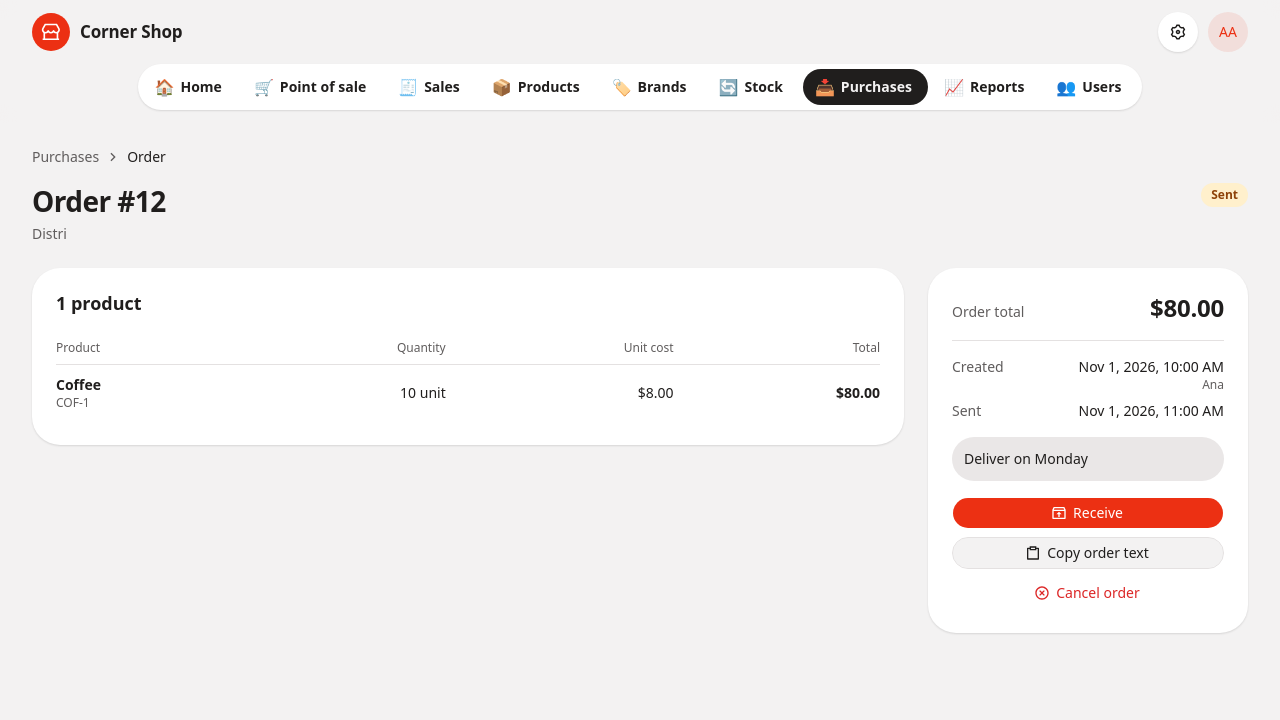
Test: Purchase order › receives what arrived, showing the cost it averages to
Expected: the heading "Order #12" is shown, [32,183,166,220]
Click the button "Receive" at (1088, 513), box [952,497,1224,529]
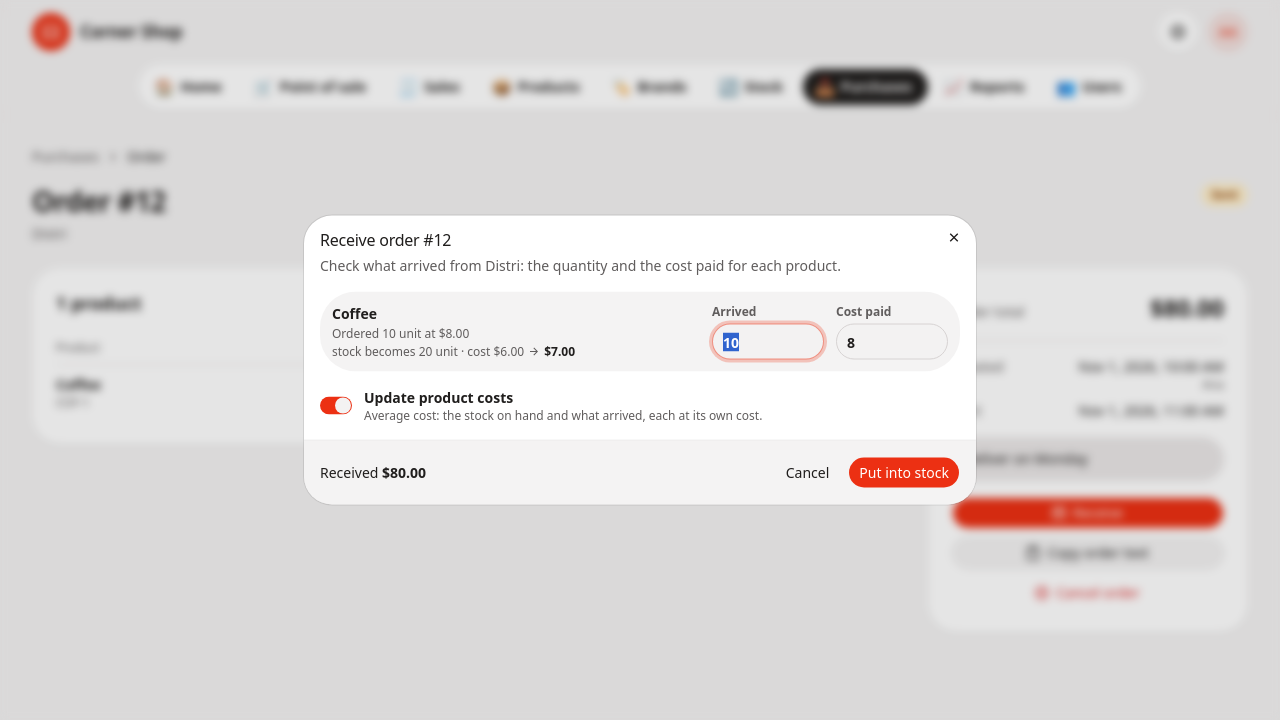
Replace the text in the field named "Arrived of Coffee" with "8" at (768, 342), box [712,324,824,360]
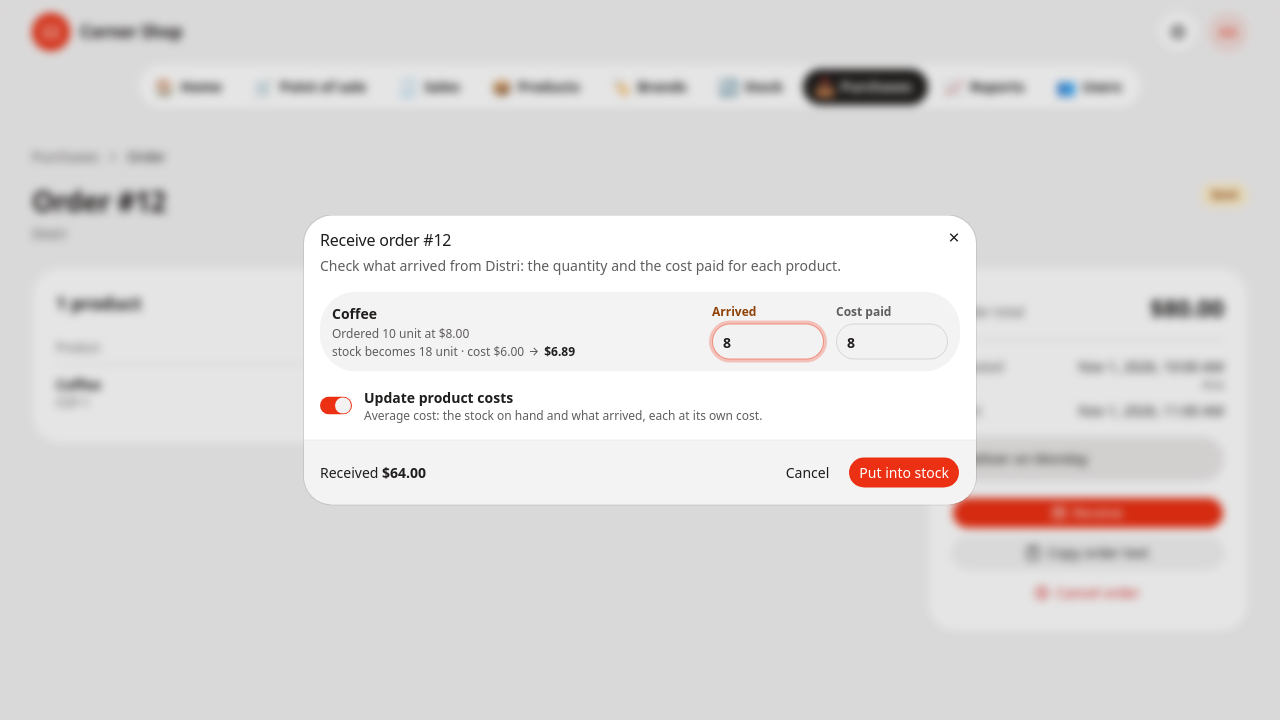
Replace the text in the field named "Cost paid for Coffee" with "9" at (892, 342), box [836,324,948,360]
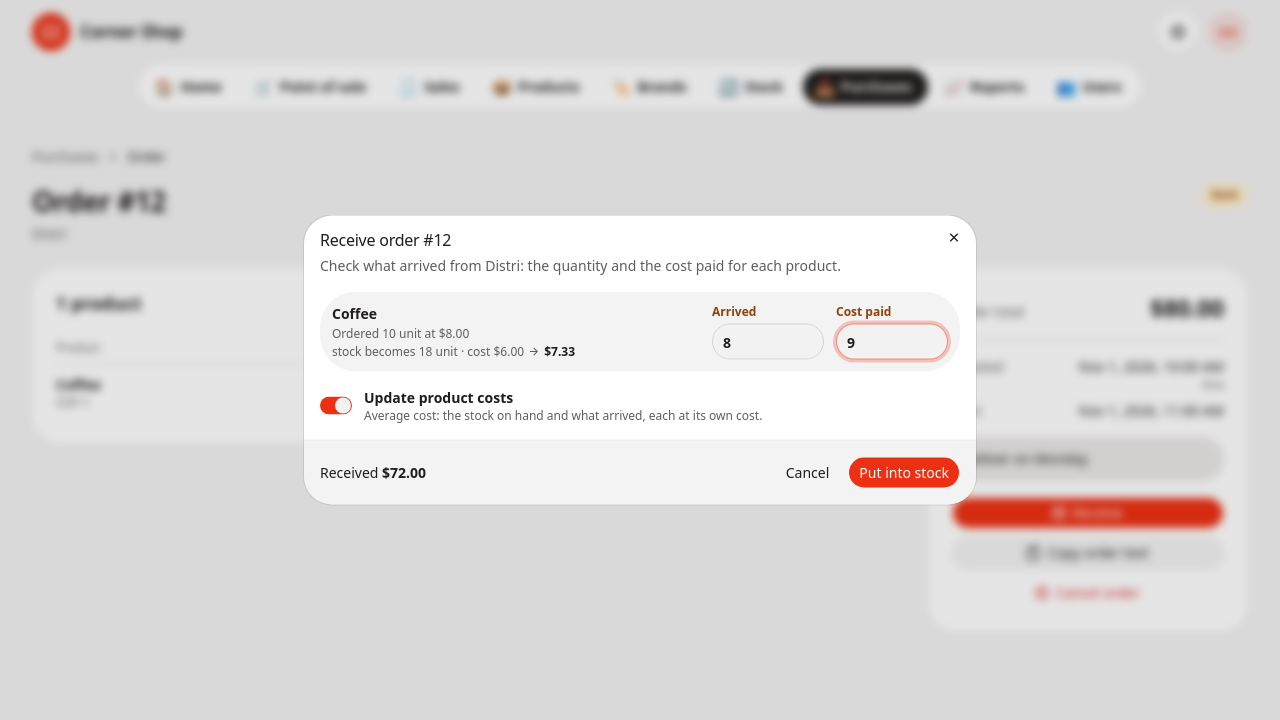
Result: the text "$7.33" is shown at [544,344,575,360]
Result: the text "stock becomes 18 unit · cost $6.00 $7.33" is shown at [332,342,575,360]
Click the button "Put into stock" at (904, 472), box [848,456,960,488]
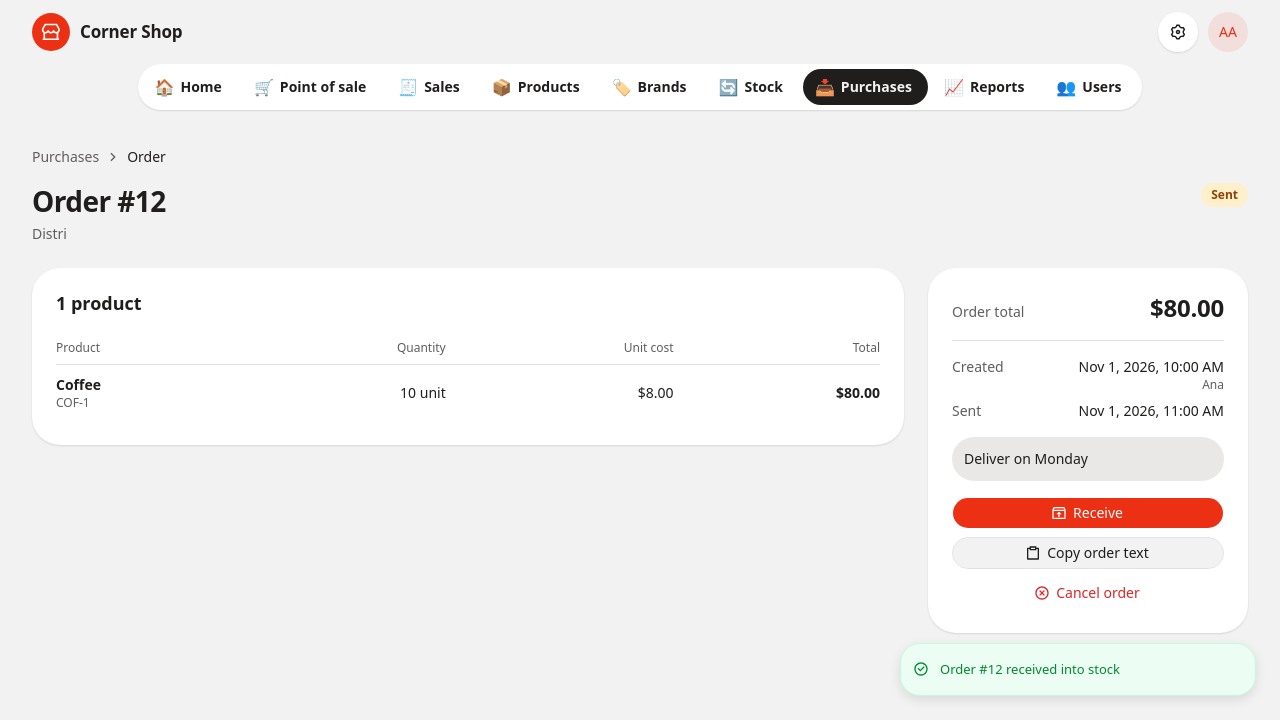
Result: the text "Order #12 received into stock" is shown at [940,660,1120,679]
